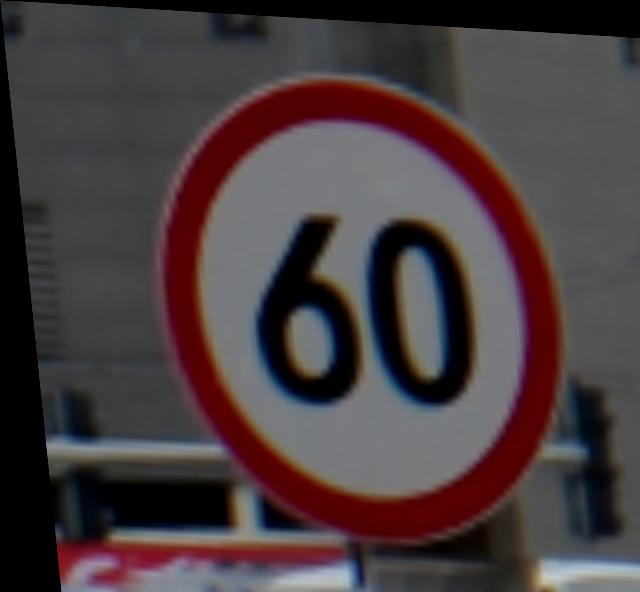limit60: (122, 57, 577, 549)
